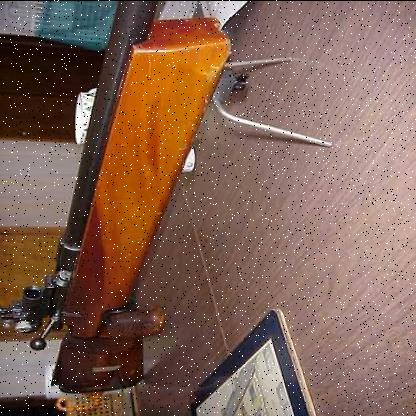rifle: (1, 1, 284, 403)
